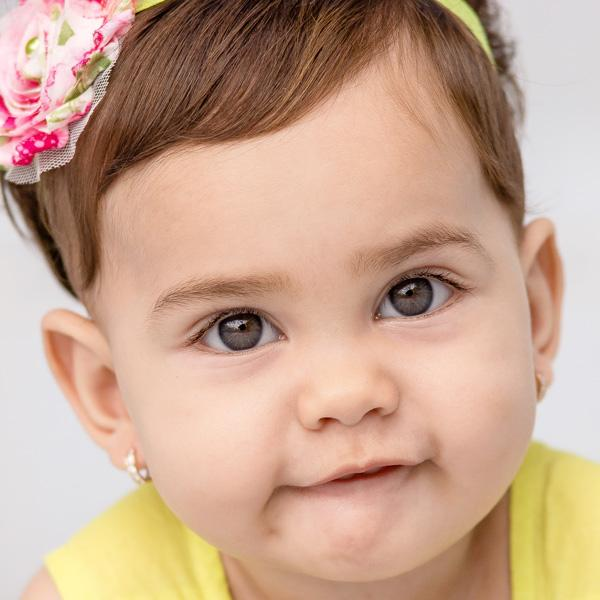Eyes: (358, 255, 479, 332), (179, 298, 296, 368)
